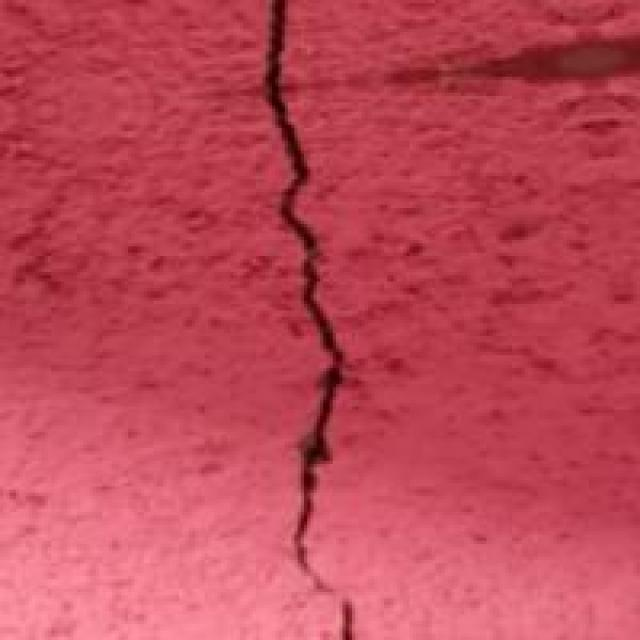Crack: (195, 6, 397, 636)
